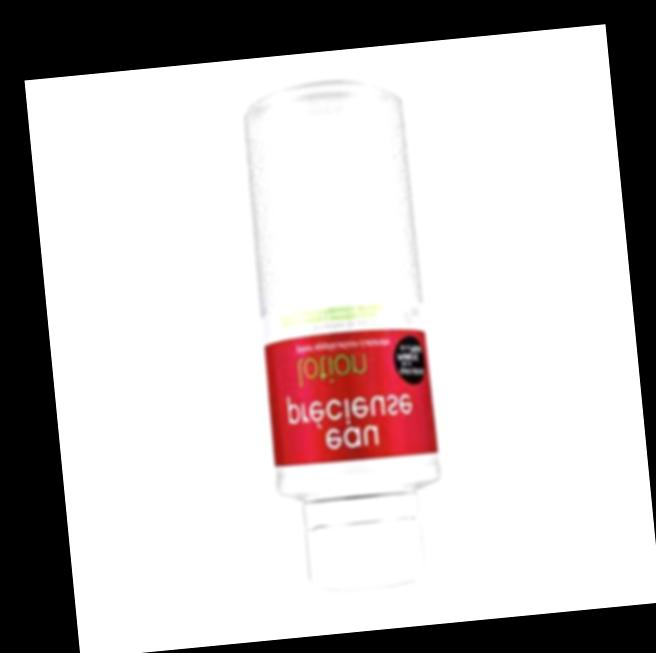cosmetic: (239, 95, 450, 595)
